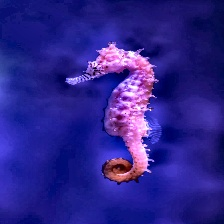seahorse: (1, 30, 159, 217)
